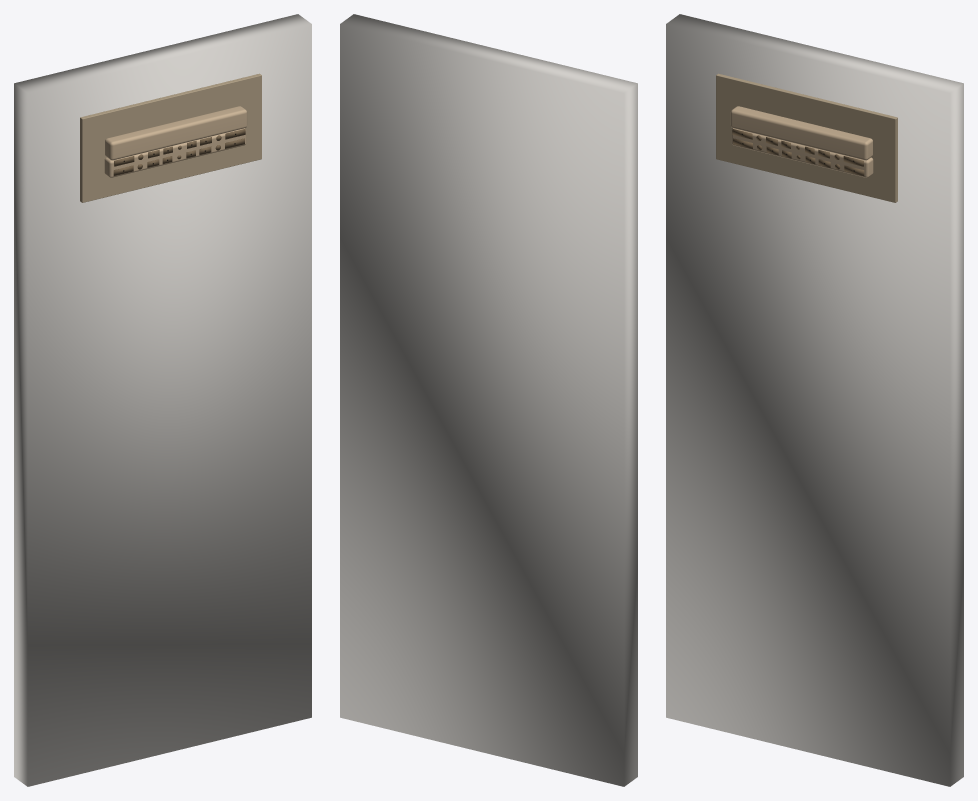
The model's file is beastmaker-2000-series-hangboard_v001.glb.
3 renders of one model, left to right at view 1: azimuth 30°, elevation 25°; view 2: azimuth 150°, elevation 25°; view 3: azimuth 330°, elevation 25°, orthographic.
Parts seen in each view (by area): view 1: beastmaker-2000-series-hangboard_wall, beastmaker-2000-series-hangboard_ply, beastmaker-2000-series-hangboard_wood, beastmaker-2000-series-hangboard_wood.001, beastmaker-2000-series-hangboard_hold; view 2: beastmaker-2000-series-hangboard_wall; view 3: beastmaker-2000-series-hangboard_wall, beastmaker-2000-series-hangboard_ply, beastmaker-2000-series-hangboard_wood, beastmaker-2000-series-hangboard_wood.001, beastmaker-2000-series-hangboard_hold.
Part boxes in pixels (x1,y1,x2,y2): beastmaker-2000-series-hangboard_wall: (14,14,311,786); beastmaker-2000-series-hangboard_ply: (80,73,261,202); beastmaker-2000-series-hangboard_wood: (105,106,247,160); beastmaker-2000-series-hangboard_wood.001: (104,128,246,177); beastmaker-2000-series-hangboard_hold: (113,128,245,175); beastmaker-2000-series-hangboard_wall: (340,14,637,786); beastmaker-2000-series-hangboard_wall: (666,14,963,786); beastmaker-2000-series-hangboard_ply: (716,73,897,202); beastmaker-2000-series-hangboard_wood: (730,106,872,160); beastmaker-2000-series-hangboard_wood.001: (731,128,873,177); beastmaker-2000-series-hangboard_hold: (732,128,864,175).
Size of the model in its own units: 1.2 by 2.8 by 0.1743.
